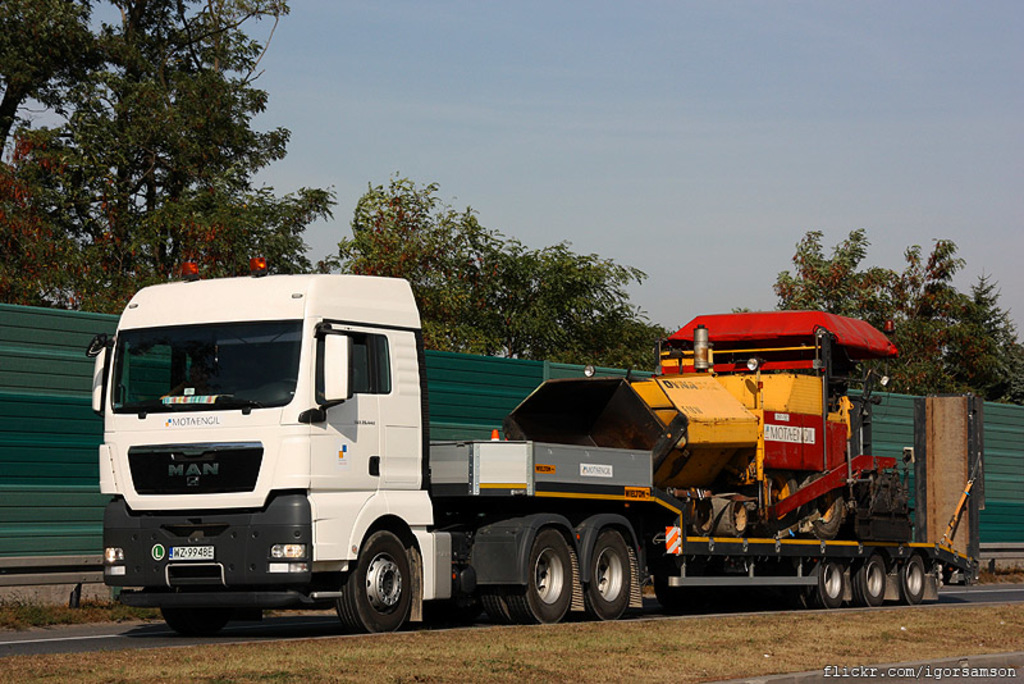truck: (75, 248, 694, 623)
